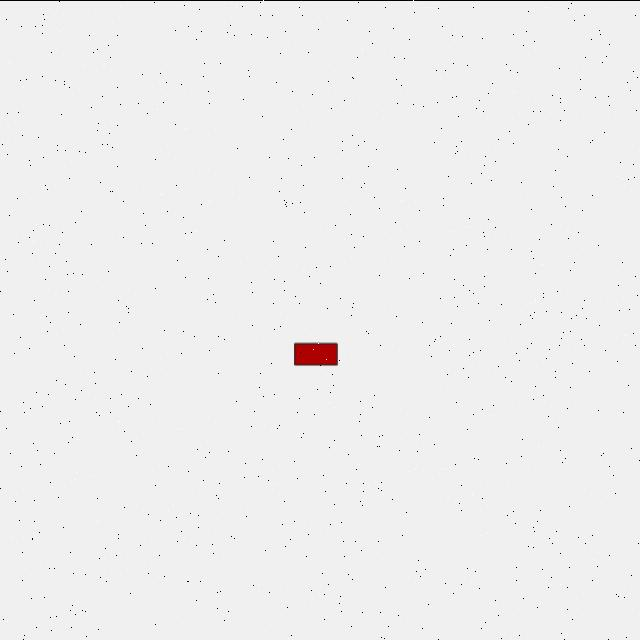3069b: (290, 336, 342, 368)
